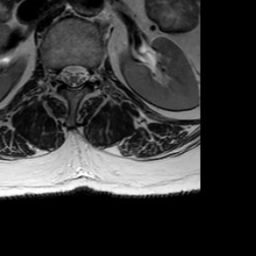CCS_normal: (69, 54, 78, 98)
LFS_normal: (89, 56, 98, 92)
LLS_normal: (78, 54, 89, 92)
RFS_stenosis: (51, 57, 60, 88)
RLS_normal: (60, 55, 69, 92)
